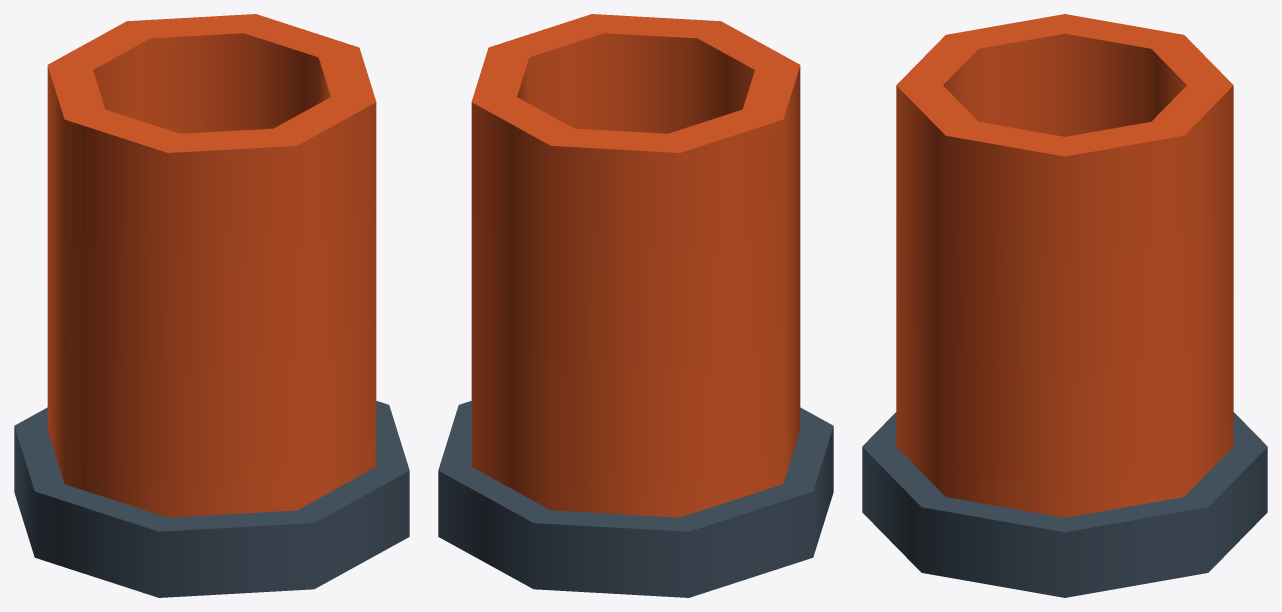
The model's file is Chimney_1_A_4.glb.
The picture shows the model from 3 angles, left to right: view 1: azimuth 30°, elevation 25°; view 2: azimuth 150°, elevation 25°; view 3: azimuth 270°, elevation 25°; orthographic projection.
Visible parts, largest first — view 1: Chimney_1_A_4; view 2: Chimney_1_A_4; view 3: Chimney_1_A_4.
Boxes of the visible parts, x1,y1,x2,y2 form: Chimney_1_A_4: [14, 14, 409, 597]; Chimney_1_A_4: [438, 14, 833, 597]; Chimney_1_A_4: [862, 14, 1267, 597].
Bounding box in the file's own units: 0.6178 × 0.7175 × 0.6178.
Materials: 1 (1 with a texture image).
